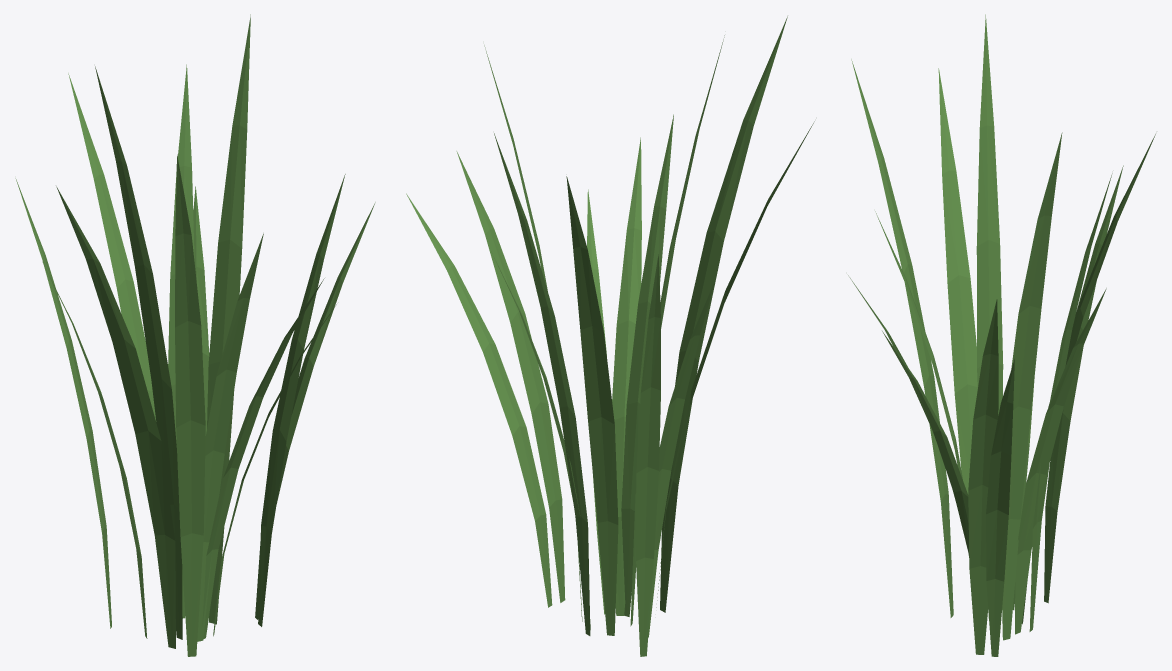
Rendered from grass_tuft_e.glb.
The picture shows the model from 3 angles, left to right: view 1: azimuth 30°, elevation 25°; view 2: azimuth 150°, elevation 25°; view 3: azimuth 270°, elevation 25°; orthographic projection. The views are drawn at different scales.
Visible parts, largest first — view 1: grass_tuft_e; view 2: grass_tuft_e; view 3: grass_tuft_e.
Boxes of the visible parts, x1,y1,x2,y2 form: grass_tuft_e: (15,14,375,656); grass_tuft_e: (406,16,814,656); grass_tuft_e: (848,14,1155,656).
Bounding box in the file's own units: 0.284 × 0.45 × 0.2248.
